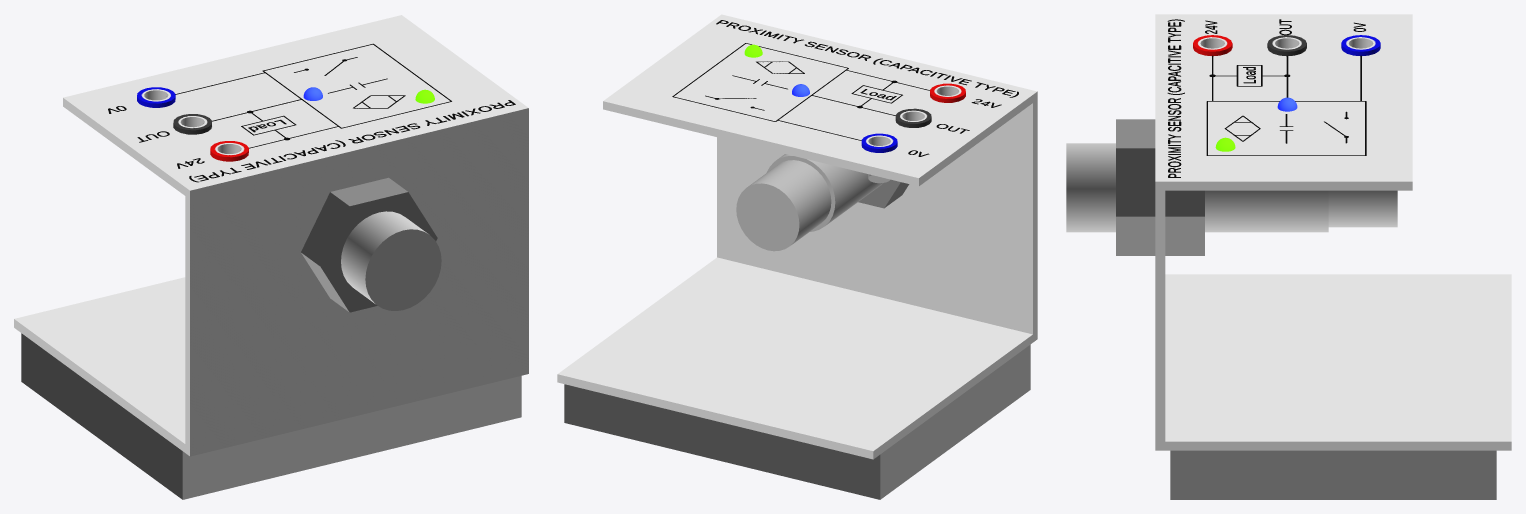
The model's file is capacitive-sensor-npn.glb.
3 views of the same model, side by side, from view 1: azimuth 30°, elevation 25°; view 2: azimuth 150°, elevation 25°; view 3: azimuth 270°, elevation 25° (orthographic). The views are drawn at different scales.
Visible parts, largest first — view 1: Base__go1084__mesh5, Base__go1084__mesh0, Base__go1084__mesh1, Base__go1084__mesh3, Sticker__go1066__mesh0, Base__go1084__mesh6, Base__go1084__mesh7, Base__go1084__mesh2; view 2: Base__go1084__mesh5, Base__go1084__mesh0, Base__go1084__mesh1, Sticker__go1066__mesh0, Base__go1084__mesh3, Base__go1084__mesh7, Base__go1084__mesh6, Base__go1084__mesh2; view 3: Base__go1084__mesh5, Base__go1084__mesh0, Base__go1084__mesh1, Base__go1084__mesh3, Sticker__go1066__mesh0, Base__go1084__mesh7, Base__go1084__mesh6, Base__go1084__mesh2.
Boxes of the visible parts, box(x1,y1,x2,y2) form: Base__go1084__mesh5: box(14, 15, 528, 456); Base__go1084__mesh0: box(21, 333, 521, 499); Base__go1084__mesh1: box(341, 211, 441, 310); Base__go1084__mesh3: box(301, 177, 437, 312); Sticker__go1066__mesh0: box(108, 43, 515, 182); Base__go1084__mesh6: box(210, 141, 248, 161); Base__go1084__mesh7: box(137, 87, 175, 107); Base__go1084__mesh2: box(173, 114, 211, 134); Base__go1084__mesh5: box(557, 14, 1037, 459); Base__go1084__mesh0: box(564, 344, 1030, 499); Base__go1084__mesh1: box(736, 154, 882, 251); Sticker__go1066__mesh0: box(672, 20, 1018, 156); Base__go1084__mesh3: box(858, 179, 909, 208); Base__go1084__mesh7: box(861, 133, 897, 183); Base__go1084__mesh6: box(930, 83, 965, 102); Base__go1084__mesh2: box(895, 108, 931, 127); Base__go1084__mesh5: box(1155, 14, 1511, 450); Base__go1084__mesh0: box(1170, 450, 1496, 499); Base__go1084__mesh1: box(1066, 143, 1397, 232); Base__go1084__mesh3: box(1116, 119, 1204, 255); Sticker__go1066__mesh0: box(1167, 19, 1366, 177); Base__go1084__mesh7: box(1341, 35, 1380, 55); Base__go1084__mesh6: box(1193, 35, 1232, 56); Base__go1084__mesh2: box(1267, 35, 1306, 56).
Size of the model in its own units: 0.08 by 0.073 by 0.09.
11 materials, 5 textured.
